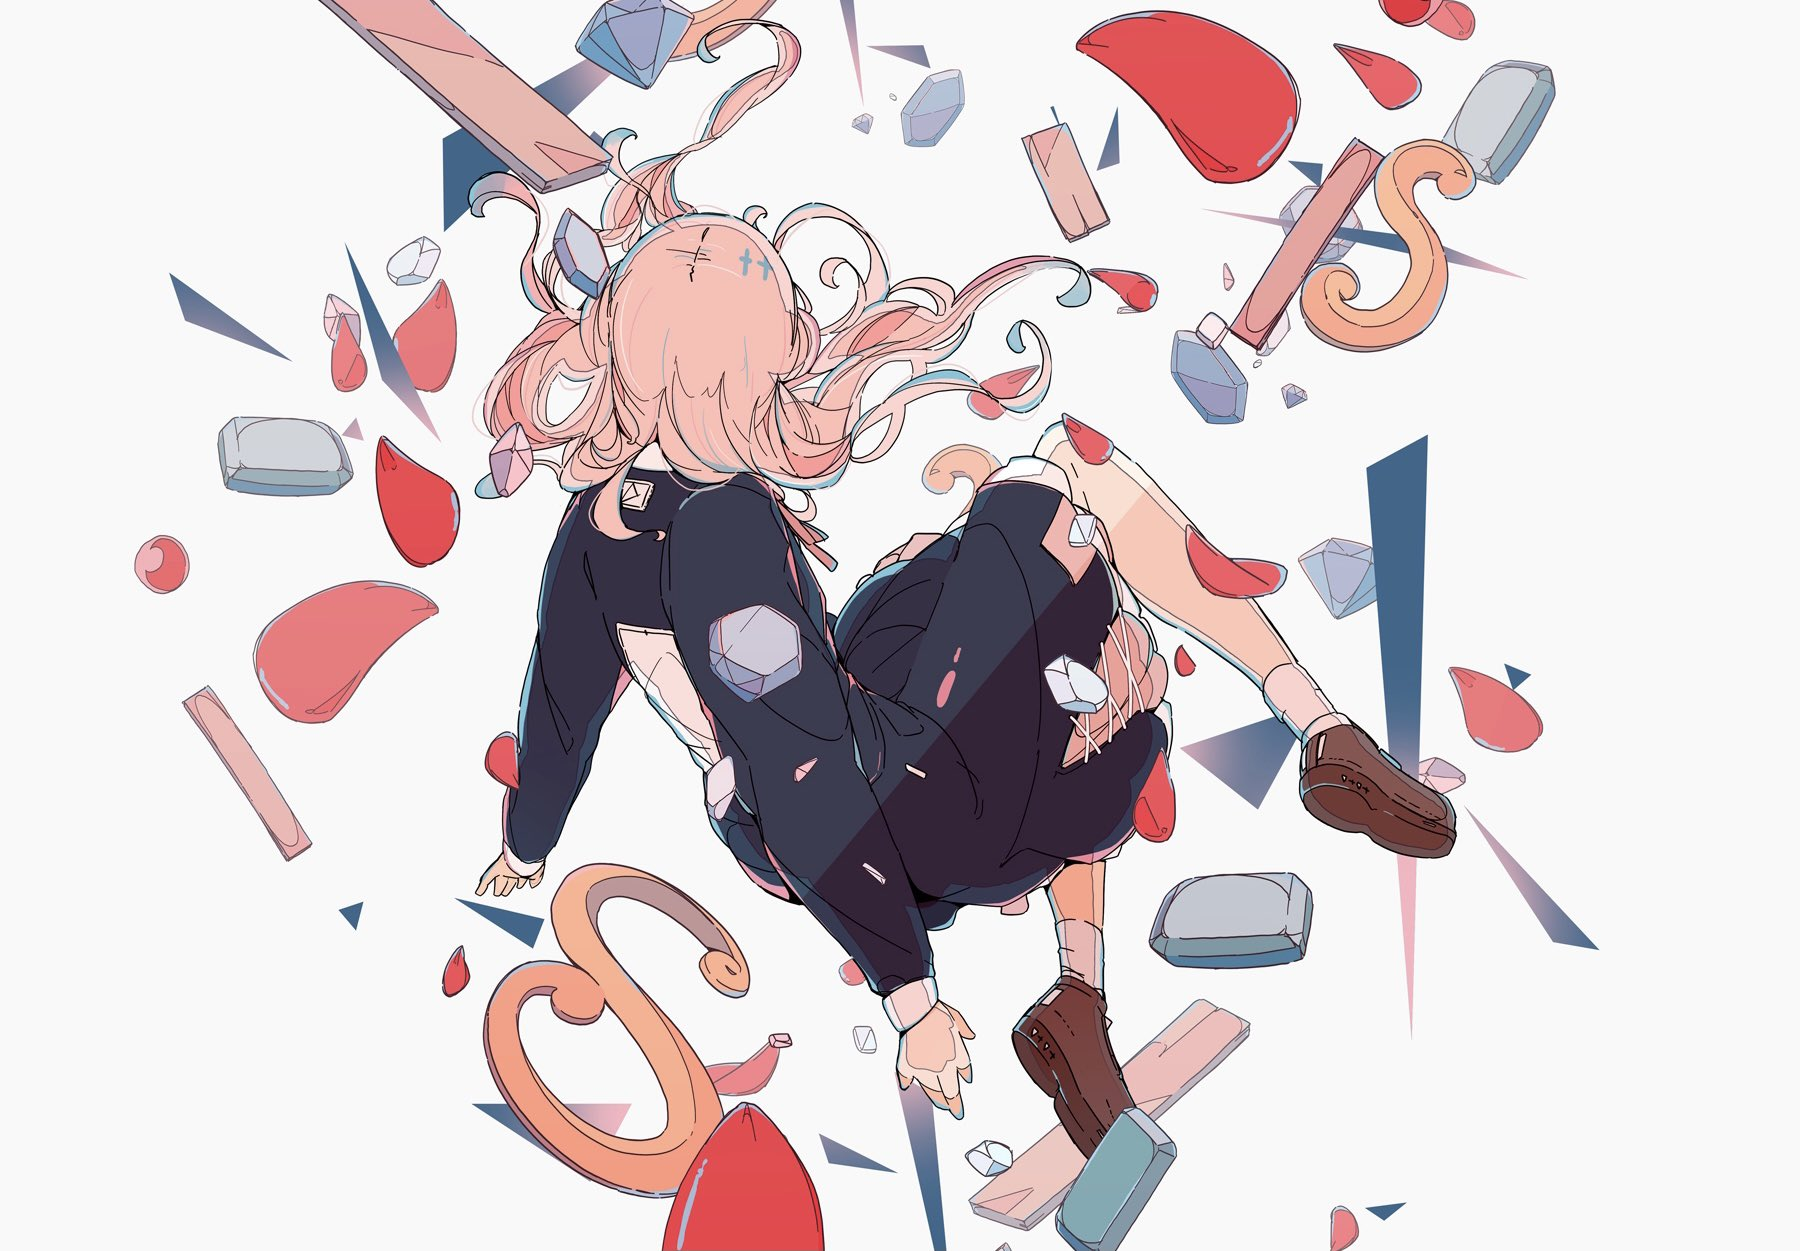p: (358, 189, 1502, 1198)
